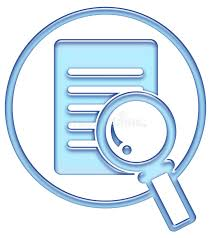searchIcon: (94, 87, 196, 233)
